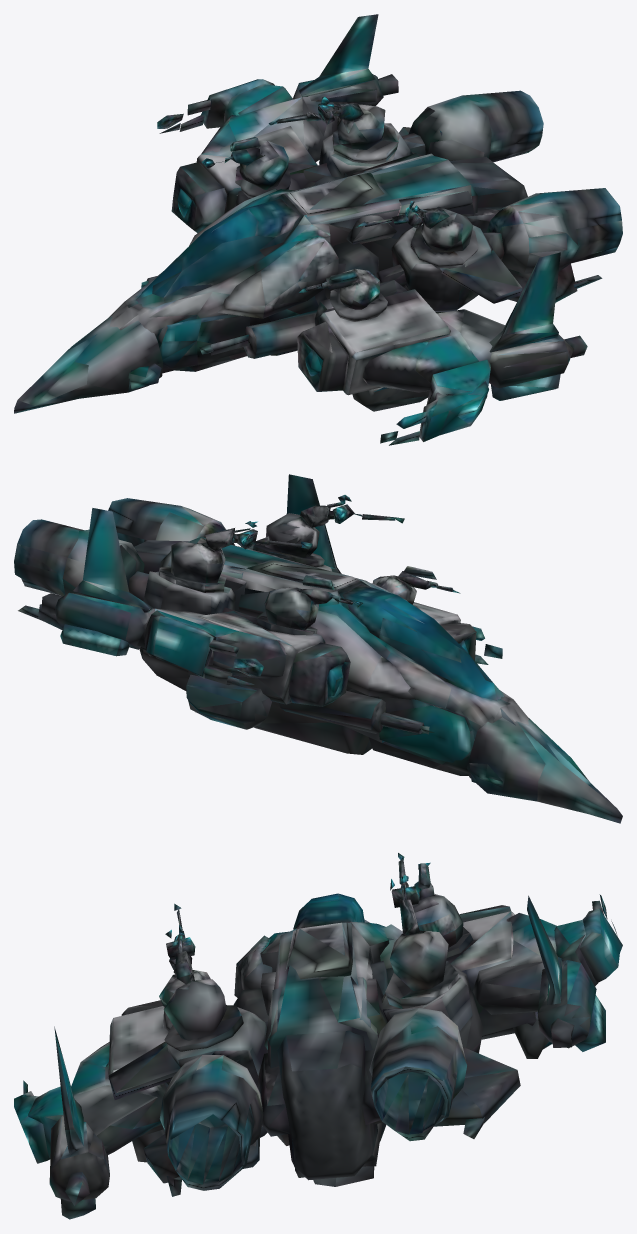
File: dart_lod.glb
3 views of the same model, one above another, from view 1: azimuth 30°, elevation 25°; view 2: azimuth 150°, elevation 25°; view 3: azimuth 270°, elevation 25° (orthographic). The views are drawn at different scales.
Size of the model in its own units: 1 by 0.4522 by 0.7676.
1 material, 1 textured.
